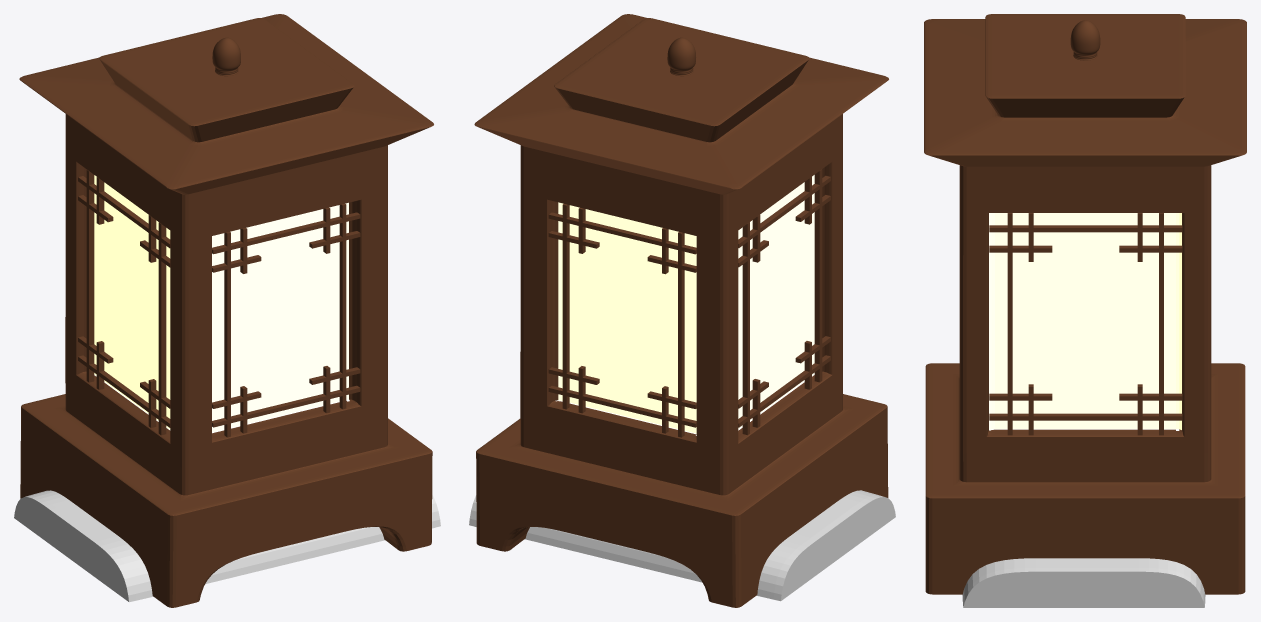
File: 落地灯.fbx
3 renders of one model, left to right at view 1: azimuth 30°, elevation 25°; view 2: azimuth 150°, elevation 25°; view 3: azimuth 270°, elevation 25°, orthographic. The views are drawn at different scales.
Visible parts, largest first — view 1: 立方体.001, 立方体.002, 立方体.001_slice, 立方体; view 2: 立方体.001, 立方体.002, 立方体.001_slice, 立方体; view 3: 立方体.001, 立方体.001_slice, 立方体.002, 立方体.
Part boxes in pixels (<box>): 立方体.001: <box>19,14,433,607</box>; 立方体.002: <box>78,170,360,437</box>; 立方体.001_slice: <box>14,490,440,602</box>; 立方体: <box>212,37,240,76</box>; 立方体.001: <box>474,14,888,607</box>; 立方体.002: <box>548,169,830,437</box>; 立方体.001_slice: <box>469,490,895,601</box>; 立方体: <box>667,37,695,76</box>; 立方体.001: <box>924,14,1246,594</box>; 立方体.001_slice: <box>962,558,1205,607</box>; 立方体.002: <box>989,213,1182,435</box>; 立方体: <box>1070,20,1100,60</box>.
Size of the model in its own units: 2281 by 3378 by 1948.
